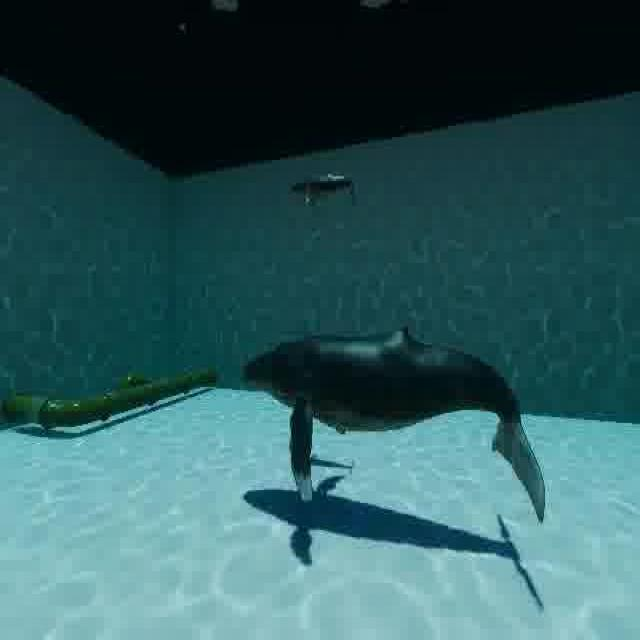Pipe: (2, 365, 222, 435)
Whale: (237, 303, 555, 539), (282, 159, 362, 214)
